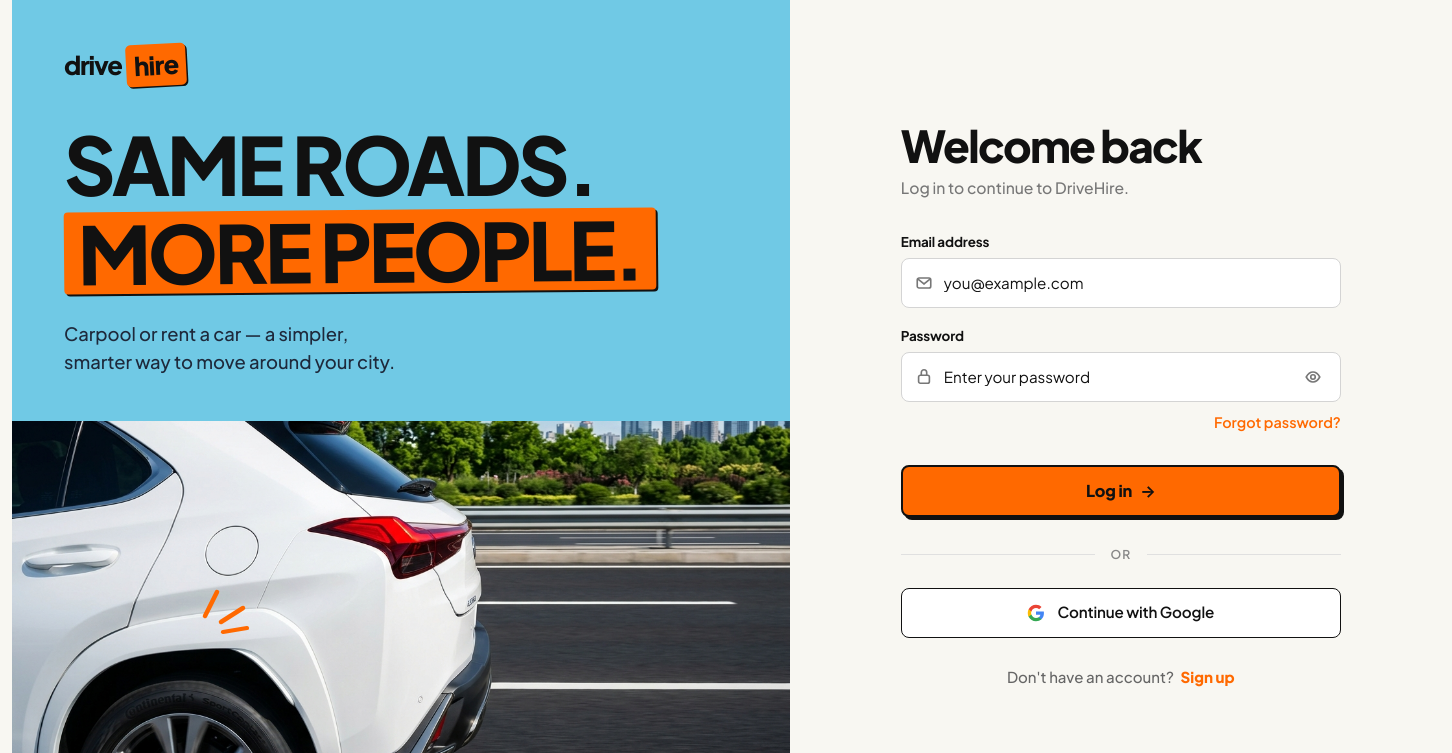
Scenario: DriveHire access screen › does not ask for account type at sign-in and routes by the returned account role
Expected: the heading named "Welcome back." is shown, [901,117,1201,173]
Expected: the tab "Driver" is not shown
In the field labelled "Email address": (1121, 283) [901,258,1341,308], type "admin@example.com"
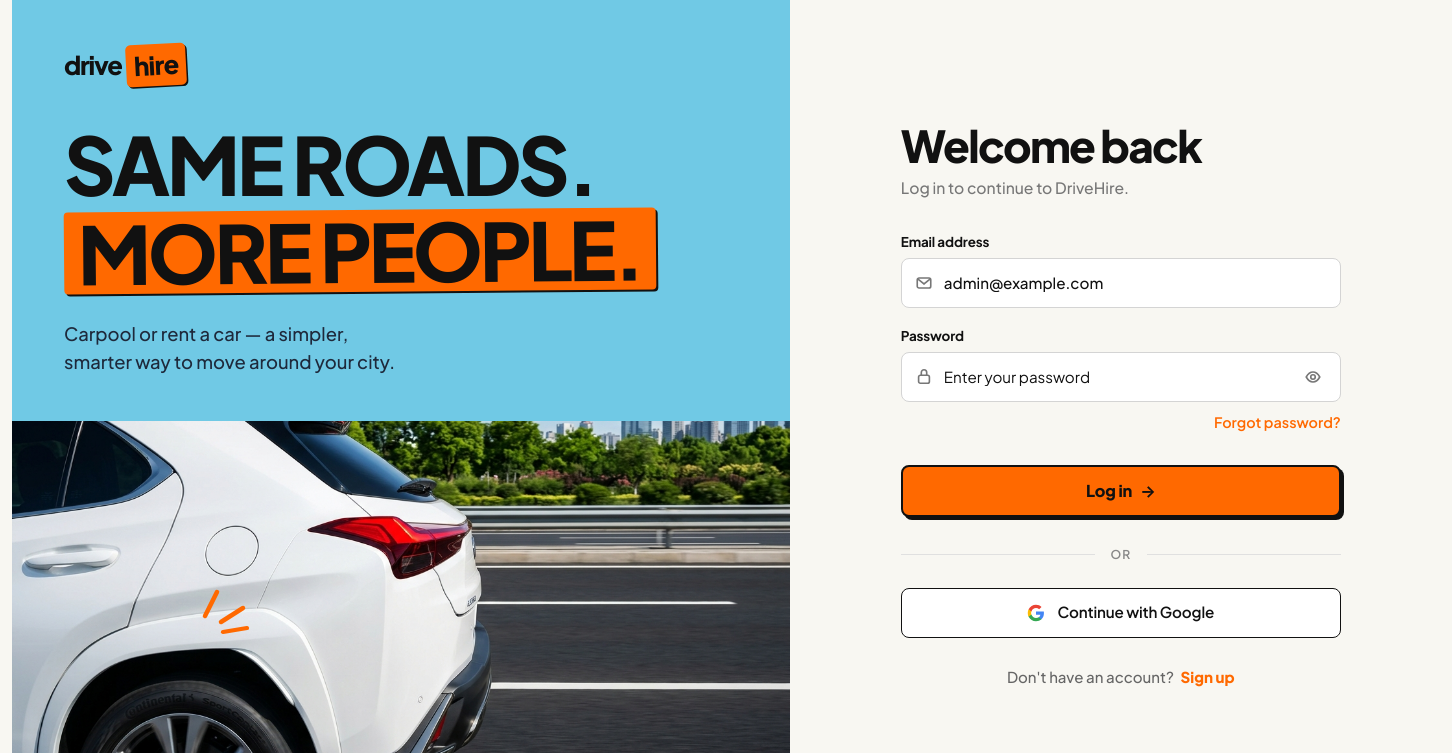
In the password field labelled "Password": (1121, 377) [901,352,1341,402], type "DriveHire2026!"
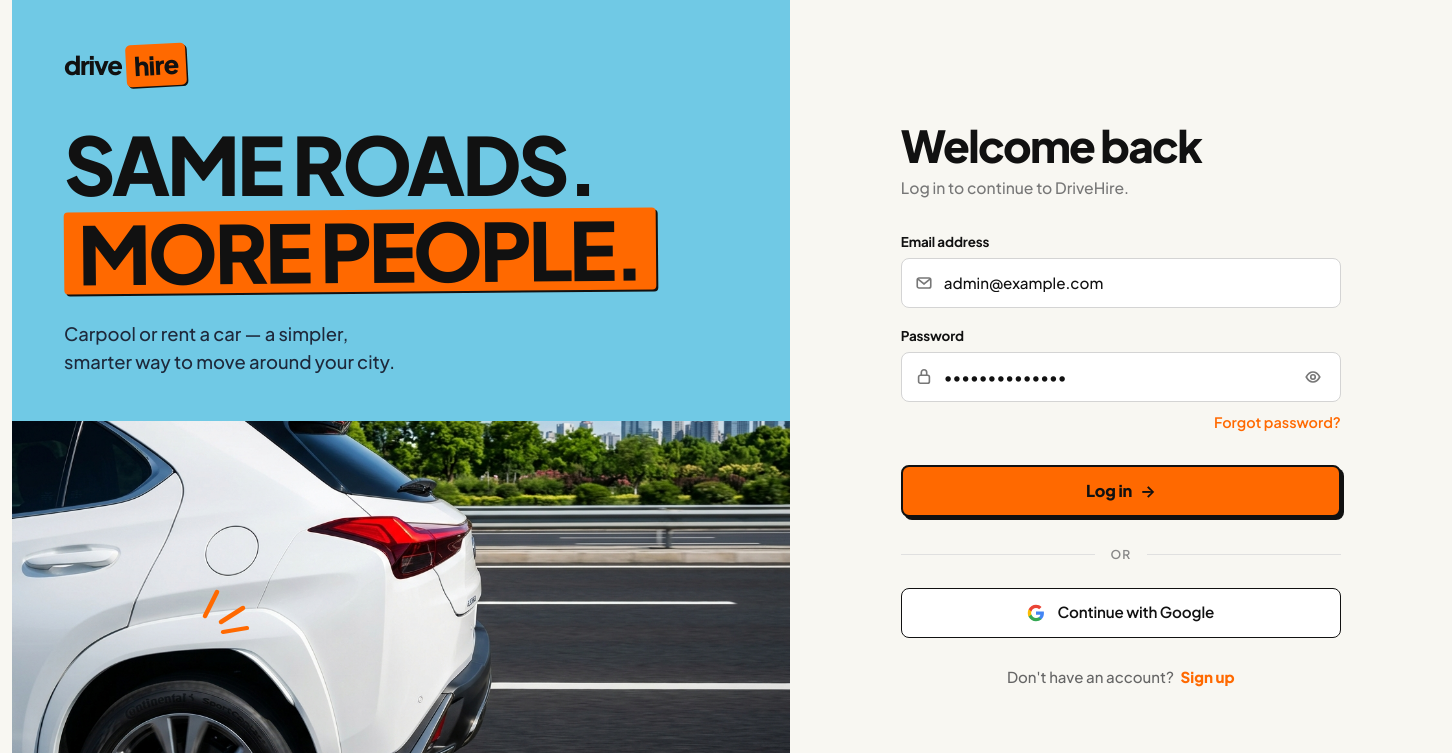
Click the button with aria-label "sign in": (1121, 491) [901,465,1341,517]
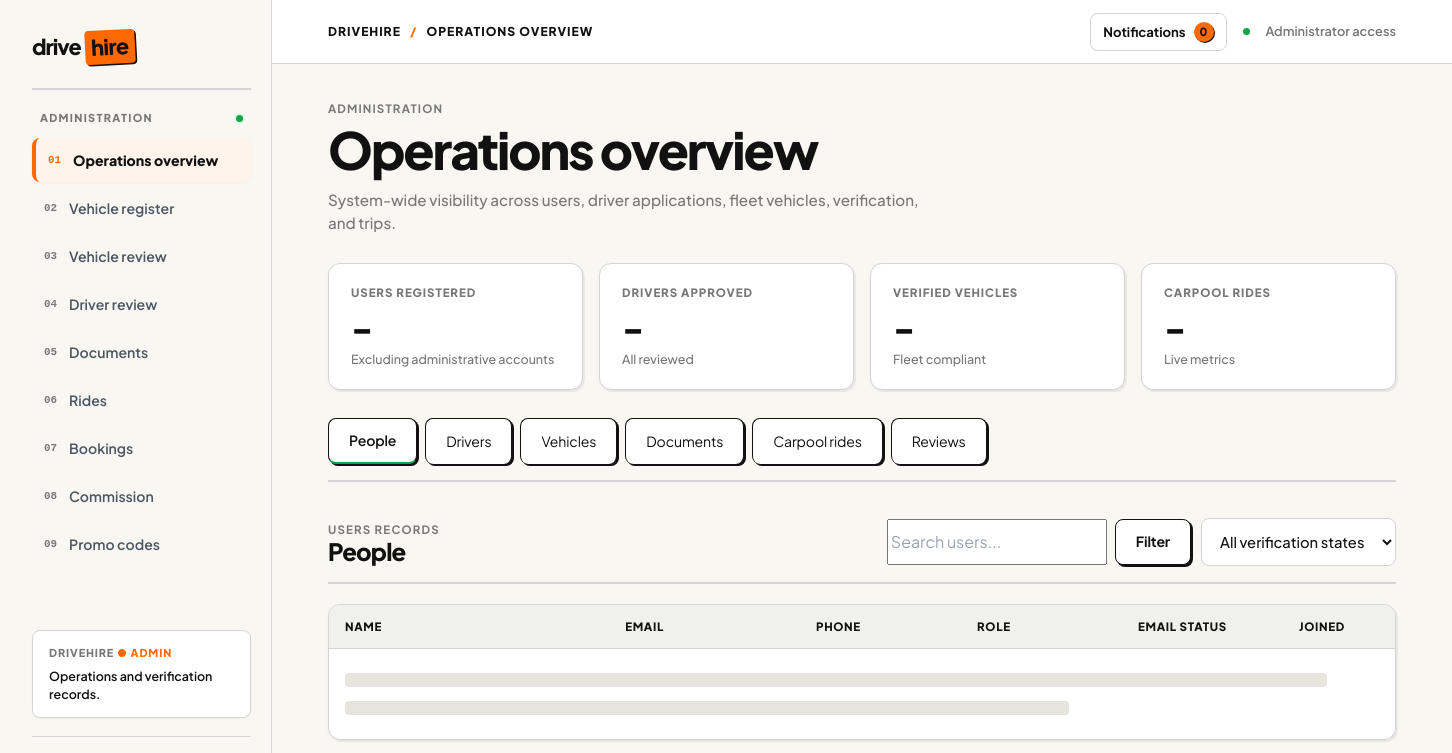
Result: the heading "Operations overview" is shown at [328,117,818,181]
Click the button "Notifications 0": (1158, 32) [1090,12,1226,50]
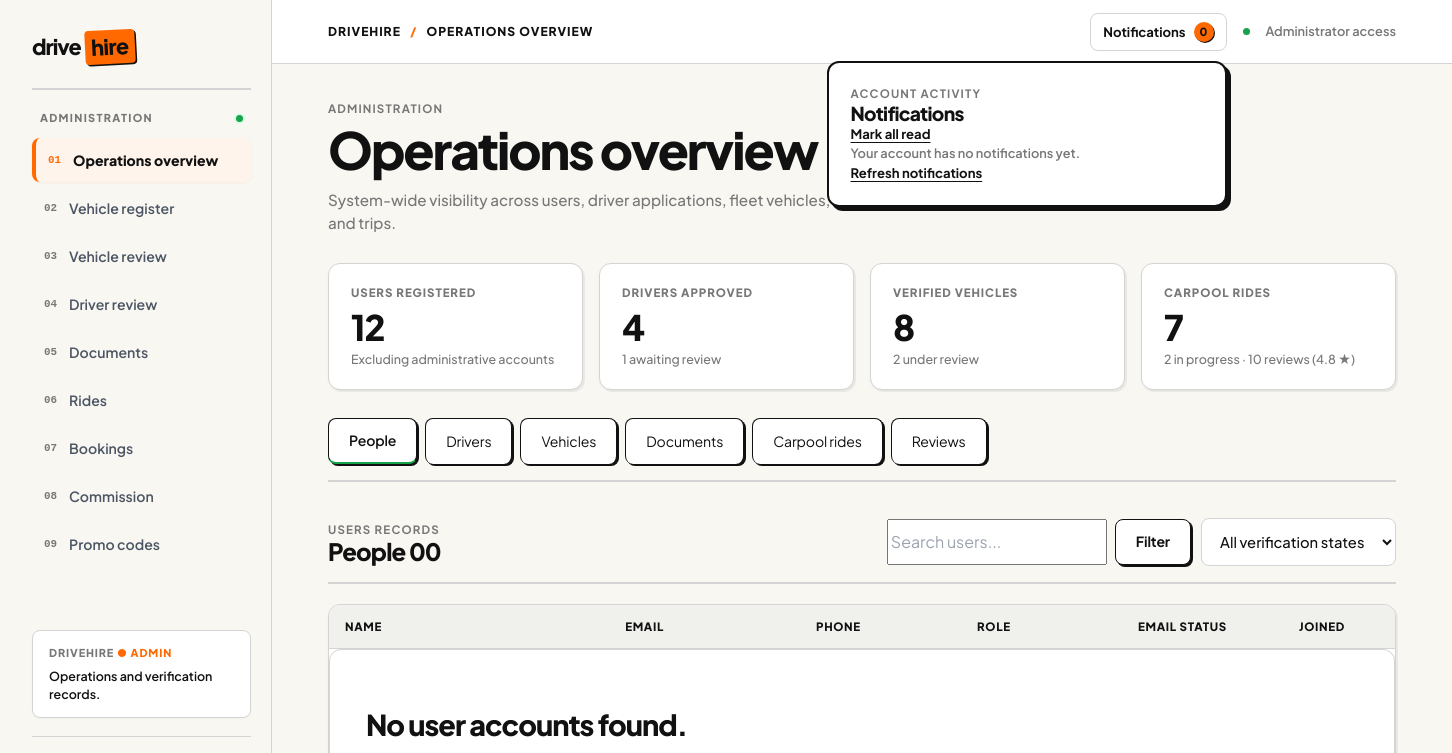
Result: the text "Your account has no notifications yet." is shown at [850,145,1080,161]
